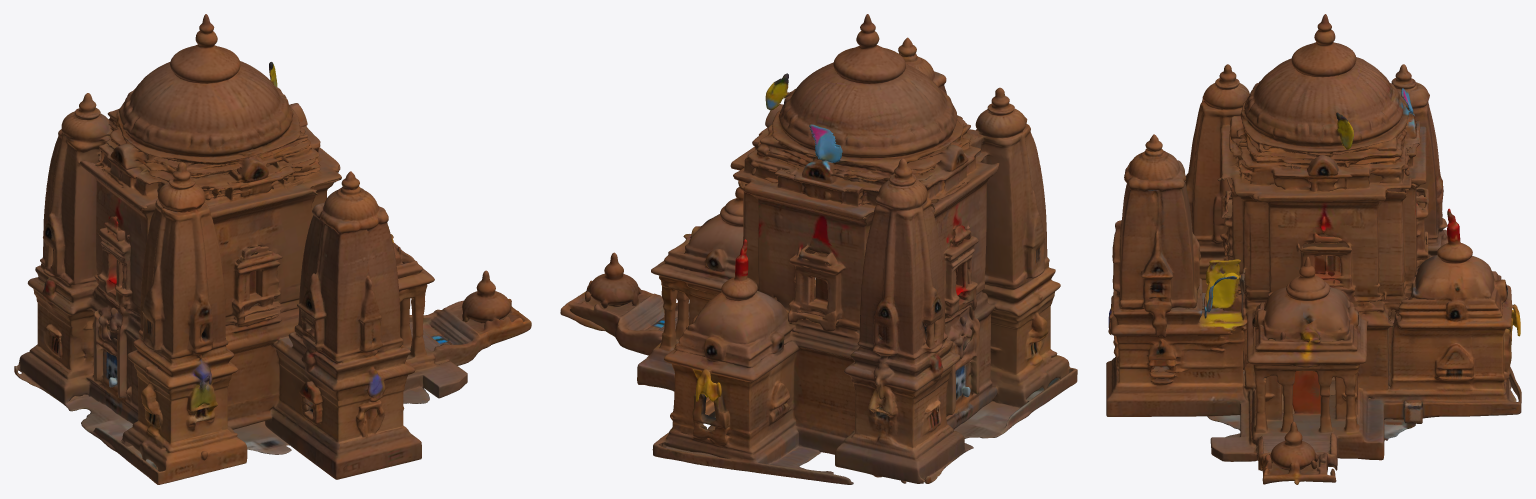
File: kamakhya_temple.glb
3 renders of one model, left to right at view 1: azimuth 30°, elevation 25°; view 2: azimuth 150°, elevation 25°; view 3: azimuth 270°, elevation 25°, orthographic. The views are drawn at different scales.
Parts seen in each view (by area): view 1: tripo_node_832015f6-4eb8-41b1-b052-2e1cb19f9c84; view 2: tripo_node_832015f6-4eb8-41b1-b052-2e1cb19f9c84; view 3: tripo_node_832015f6-4eb8-41b1-b052-2e1cb19f9c84.
Part boxes in pixels (x1=…): tripo_node_832015f6-4eb8-41b1-b052-2e1cb19f9c84: x1=14, y1=14, x2=531, y2=484; tripo_node_832015f6-4eb8-41b1-b052-2e1cb19f9c84: x1=560, y1=14, x2=1077, y2=484; tripo_node_832015f6-4eb8-41b1-b052-2e1cb19f9c84: x1=1106, y1=14, x2=1521, y2=484.
Size of the model in its own units: 1 by 0.9366 by 0.9108.
1 material, 1 textured.
